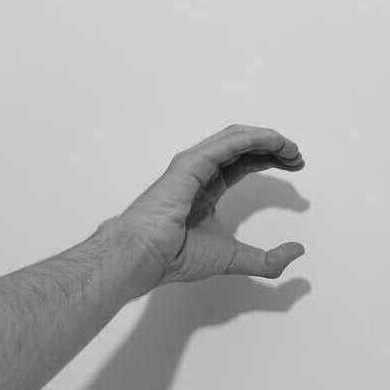C: (108, 123, 306, 281)
